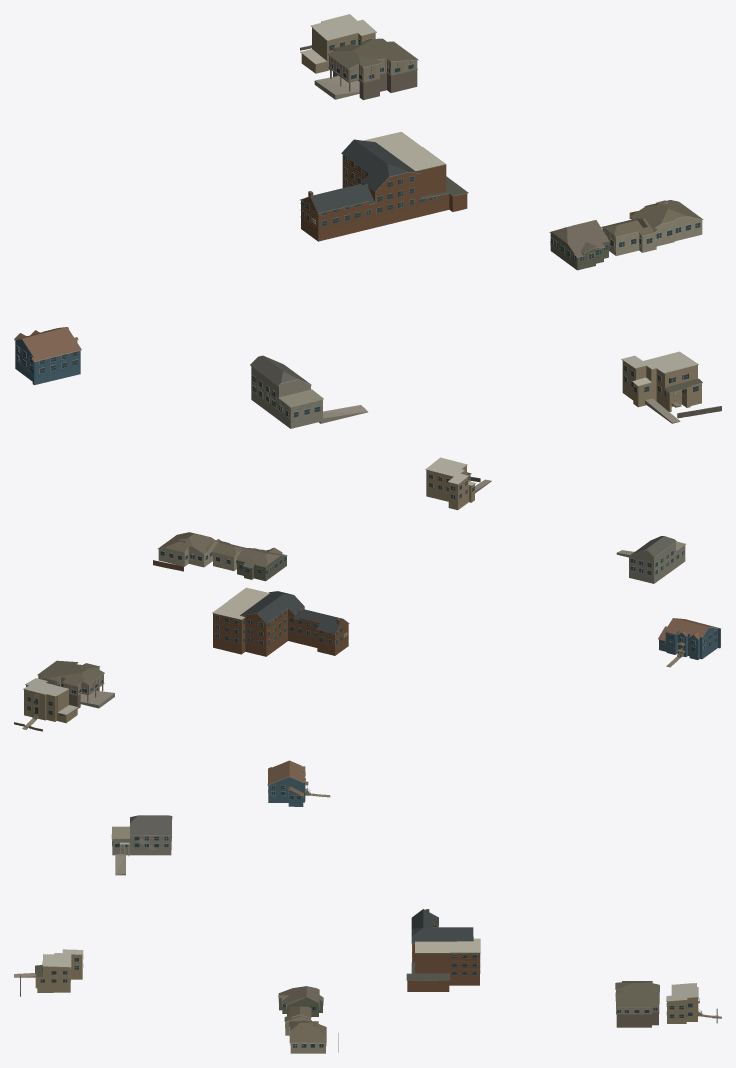
File: site.glb
3 renders of one model, top to bottom at view 1: azimuth 30°, elevation 25°; view 2: azimuth 150°, elevation 25°; view 3: azimuth 270°, elevation 25°, orthographic. The views are drawn at different scales.
Parts seen in each view (by area): view 1: roof-14401667, roof-96f32dee, roof-a1c68f4b, roof-e01f1a78, roof-df1012d3, roof-bece0173, east19-1262, east20-1256, onyx-university-approaches; view 2: roof-14401667, roof-e01f1a78, roof-bece0173, roof-df1012d3, roof-a1c68f4b, roof-96f32dee, east19-1262, east20-1256, onyx-university-approaches; view 3: roof-14401667, roof-df1012d3, roof-96f32dee, roof-a1c68f4b, roof-e01f1a78, roof-bece0173, east19-1262, east20-1256, onyx-university-approaches.
Boxes of the visible parts, <box> form: roof-14401667: <box>300,131,468,241</box>; roof-96f32dee: <box>327,38,418,100</box>; roof-a1c68f4b: <box>621,351,702,411</box>; roof-e01f1a78: <box>601,200,703,255</box>; roof-df1012d3: <box>250,355,323,428</box>; roof-bece0173: <box>14,327,81,385</box>; east19-1262: <box>300,14,376,73</box>; east20-1256: <box>549,220,609,270</box>; onyx-university-approaches: <box>300,45,721,423</box>; roof-14401667: <box>212,587,349,656</box>; roof-e01f1a78: <box>153,532,245,571</box>; roof-bece0173: <box>658,618,721,659</box>; roof-df1012d3: <box>628,536,685,583</box>; roof-a1c68f4b: <box>425,457,475,510</box>; roof-96f32dee: <box>37,660,104,708</box>; east19-1262: <box>23,678,78,723</box>; east20-1256: <box>236,547,287,581</box>; onyx-university-approaches: <box>14,477,683,731</box>; roof-14401667: <box>406,909,480,991</box>; roof-df1012d3: <box>111,815,172,856</box>; roof-96f32dee: <box>615,981,659,1027</box>; roof-a1c68f4b: <box>35,949,83,992</box>; roof-e01f1a78: <box>284,1006,338,1053</box>; roof-bece0173: <box>267,760,308,806</box>; east19-1262: <box>666,983,699,1023</box>; east20-1256: <box>278,986,323,1016</box>; onyx-university-approaches: <box>14,788,721,1023</box>.
Size of the model in its own units: 190 by 18.33 by 229.
